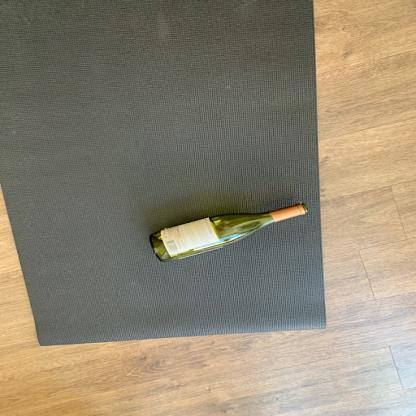trash: (146, 195, 312, 267)
